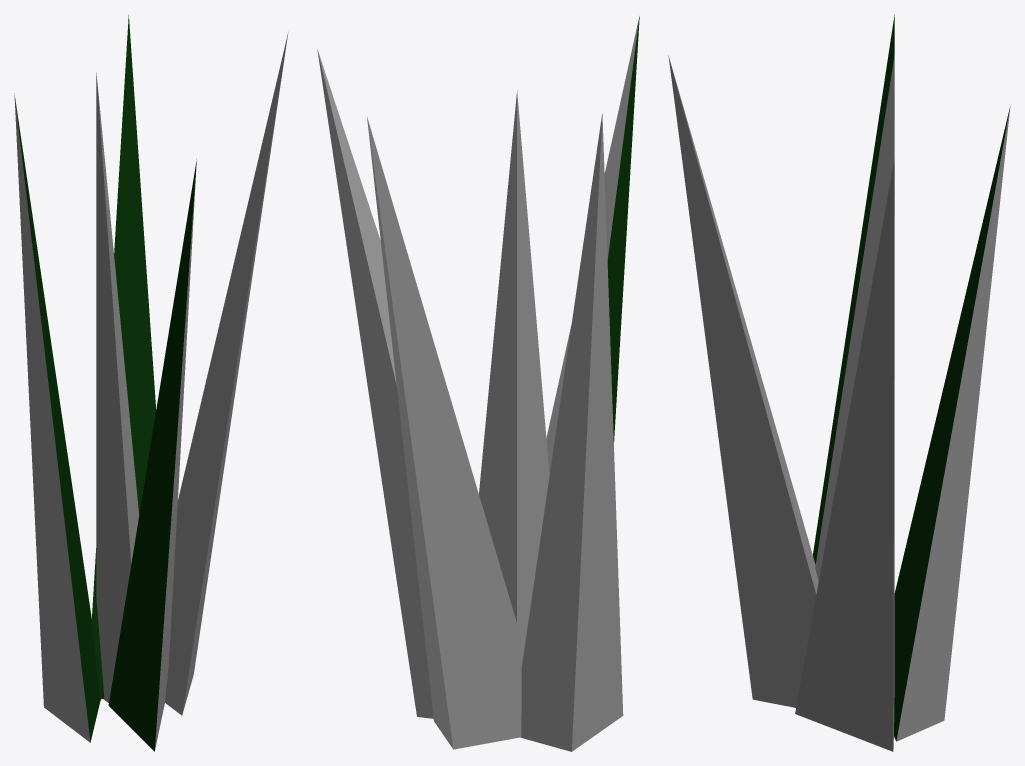
Rendered from Grass.fbx.
3 views of the same model, side by side, from view 1: azimuth 30°, elevation 25°; view 2: azimuth 150°, elevation 25°; view 3: azimuth 270°, elevation 25° (orthographic). The views are drawn at different scales.
Visible parts, largest first — view 1: polySurface5; view 2: polySurface5; view 3: polySurface5.
Boxes of the visible parts, left/top/right/bottom form: polySurface5: left=14, top=15, right=288, bottom=751; polySurface5: left=317, top=16, right=639, bottom=751; polySurface5: left=668, top=15, right=1010, bottom=751.
Bounding box in the file's own units: 0.5106 × 0.5329 × 1.12.
